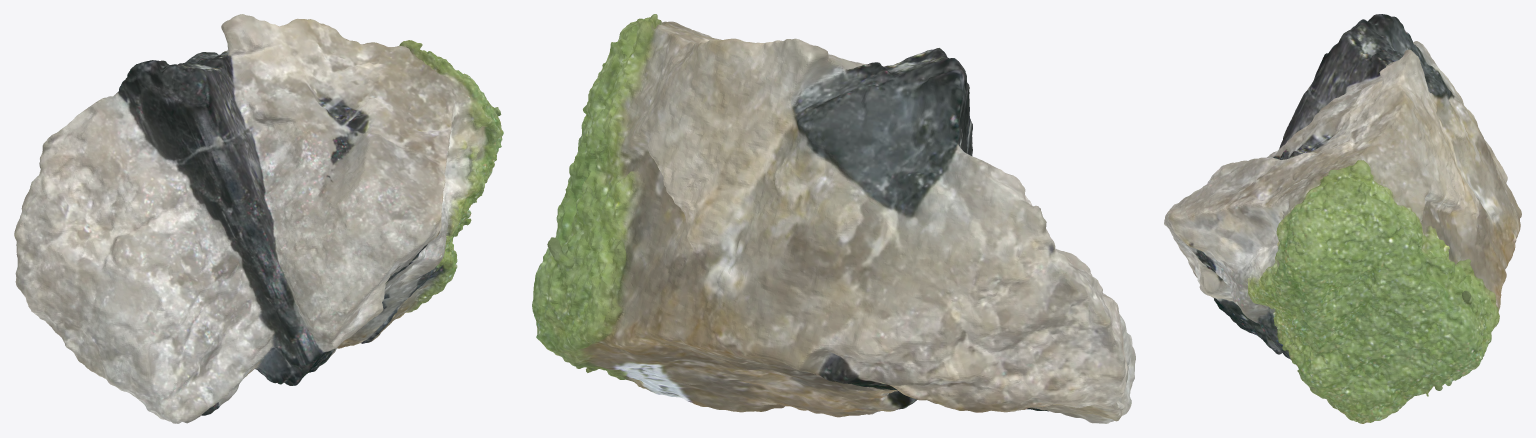
Rendered from black_tourmaline.glb.
The picture shows the model from 3 angles, left to right: view 1: azimuth 30°, elevation 25°; view 2: azimuth 150°, elevation 25°; view 3: azimuth 270°, elevation 25°; orthographic projection. The views are drawn at different scales.
Visible parts, largest first — view 1: Object_2; view 2: Object_2; view 3: Object_2.
Boxes of the visible parts, x1,y1,x2,y2 form: Object_2: (14, 14, 503, 423); Object_2: (532, 14, 1135, 423); Object_2: (1164, 14, 1521, 423).
Size of the model in its own units: 86.43 by 61.47 by 63.21.
Materials: 1 (1 with a texture image).
